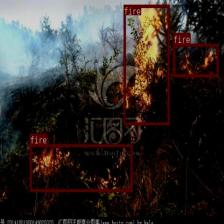fire: (123, 4, 169, 124), (30, 144, 132, 191), (173, 43, 218, 76)
